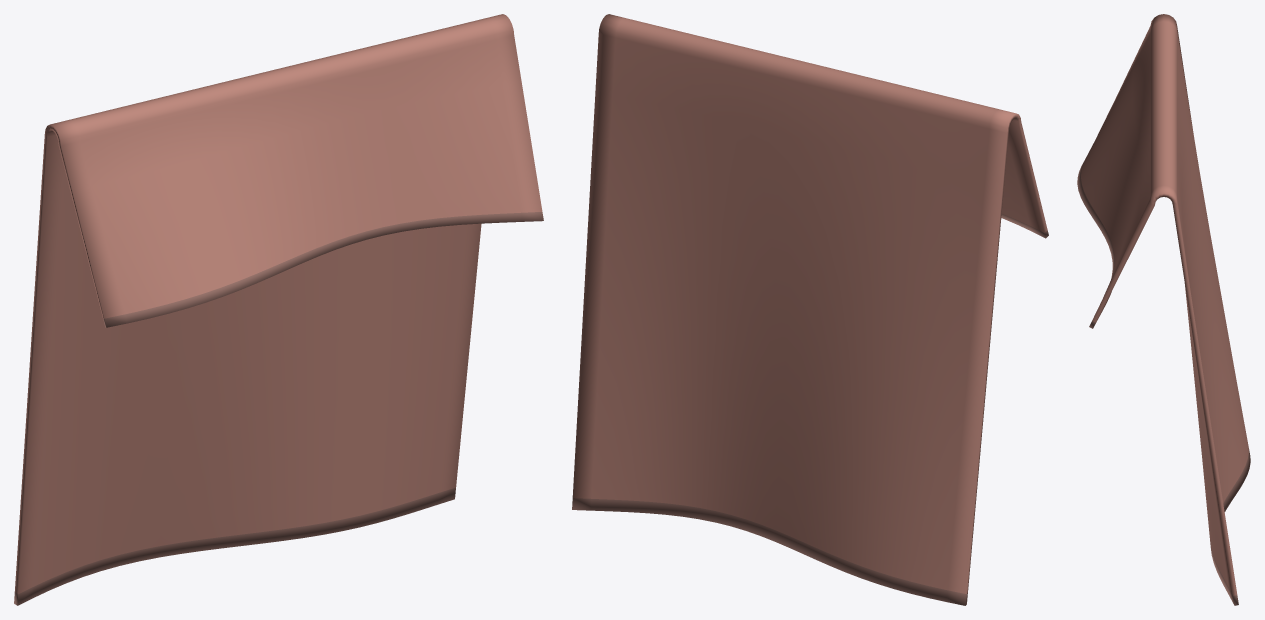
File: d03_laundry_frames_03_towel.glb
The picture shows the model from 3 angles, left to right: view 1: azimuth 30°, elevation 25°; view 2: azimuth 150°, elevation 25°; view 3: azimuth 270°, elevation 25°; orthographic projection. The views are drawn at different scales.
Parts seen in each view (by area): view 1: D03LaundryFrames03Towel_Mesh; view 2: D03LaundryFrames03Towel_Mesh; view 3: D03LaundryFrames03Towel_Mesh.
Boxes of the visible parts, x1,y1,x2,y2 form: D03LaundryFrames03Towel_Mesh: (14,14,543,605); D03LaundryFrames03Towel_Mesh: (572,14,1048,605); D03LaundryFrames03Towel_Mesh: (1077,14,1250,605).
Size of the model in its own units: 0.7601 by 0.8246 by 0.3112.
